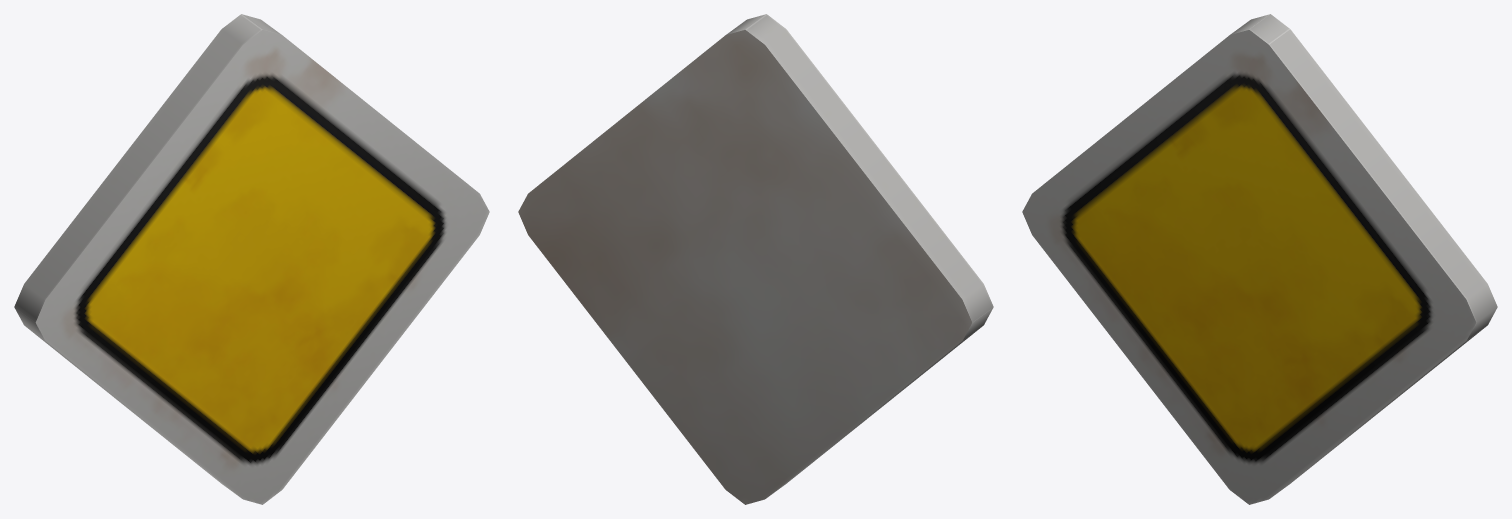
The model's file is Sign_1.FBX.
3 renders of one model, left to right at view 1: azimuth 30°, elevation 25°; view 2: azimuth 150°, elevation 25°; view 3: azimuth 330°, elevation 25°, orthographic.
Visible parts, largest first — view 1: Sign_1; view 2: Sign_1; view 3: Sign_1.
Part boxes in pixels (x1=…): Sign_1: x1=14, y1=14, x2=489, y2=504; Sign_1: x1=518, y1=14, x2=993, y2=504; Sign_1: x1=1022, y1=14, x2=1497, y2=504.
Bounding box in the file's own units: 73.19 × 73.19 × 5.98.
